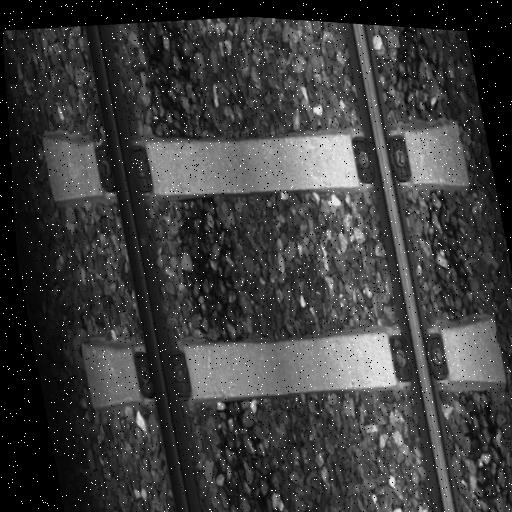clip: (130, 343, 190, 401), (92, 141, 151, 196), (352, 129, 411, 183), (387, 329, 447, 382)
sleeper: (35, 84, 476, 242), (74, 291, 511, 441)
